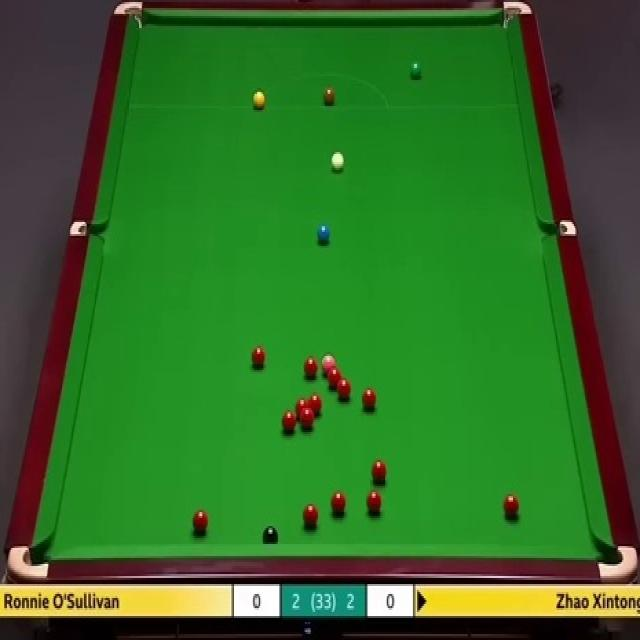black-ball: (264, 525, 282, 544)
blue-ball: (316, 225, 331, 242)
brown-ball: (323, 88, 336, 110)
green-ball: (410, 59, 422, 75)
pink-ball: (322, 354, 336, 374)
red-ball: (307, 393, 324, 419), (371, 459, 387, 486), (302, 504, 320, 528), (331, 488, 346, 516), (191, 509, 208, 533), (280, 410, 297, 434), (503, 492, 519, 517), (252, 346, 265, 370), (300, 408, 314, 430), (368, 491, 382, 513), (337, 380, 350, 402), (295, 399, 309, 418), (327, 367, 341, 386), (362, 390, 376, 408), (303, 357, 316, 376)
white-ball: (330, 152, 345, 170)
yellow-ball: (253, 90, 265, 110)
